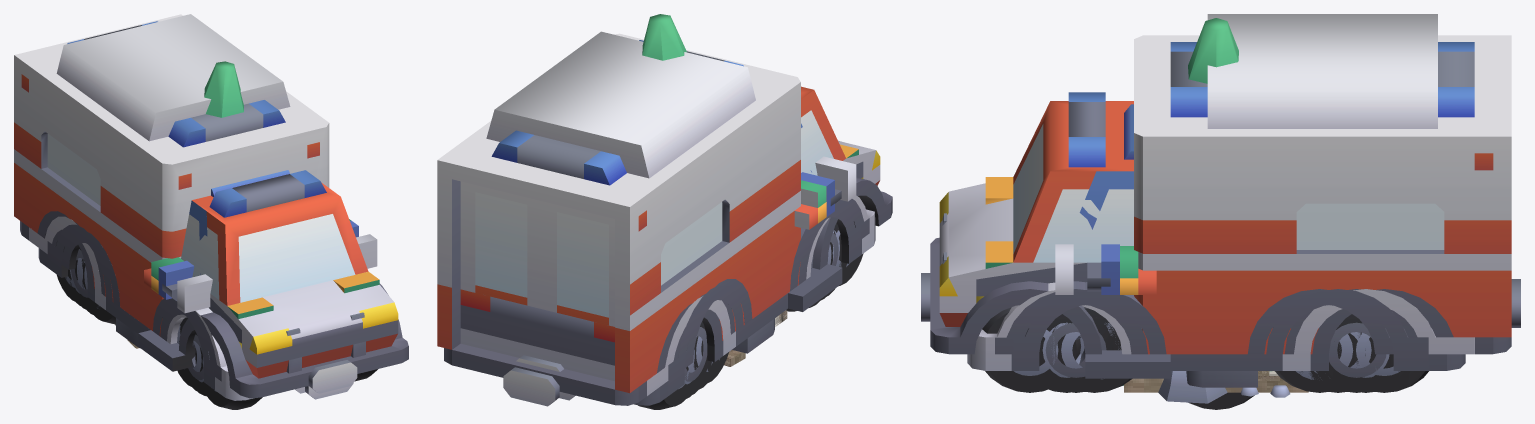
File: wasteland.glb
3 views of the same model, side by side, from view 1: azimuth 30°, elevation 25°; view 2: azimuth 150°, elevation 25°; view 3: azimuth 270°, elevation 25° (orthographic). The views are drawn at different scales.
Parts seen in each view (by area): view 1: body (×6), pine-crooked, wheel-front-right (×2), grill; view 2: body (×5), door-left, door-right, pine-crooked, wheel-back-right (×3), debris-bumper; view 3: body (×6), wheel-front-left (×5), wheel-back-left (×5), pine-crooked, rocks, debris-bumper, pallet, debris-tire.
Part boxes in pixels (box(x1,y1,x2,y2)): body (×6): box(14, 14, 408, 400); pine-crooked: box(204, 61, 243, 117); wheel-front-right (×2): box(184, 333, 262, 409); grill: box(286, 312, 365, 399); body (×5): box(437, 31, 892, 406); door-left: box(460, 181, 542, 359); door-right: box(542, 201, 614, 381); pine-crooked: box(642, 14, 686, 60); wheel-back-right (×3): box(637, 321, 728, 409); debris-bumper: box(732, 318, 774, 353); body (×6): box(921, 14, 1520, 378); wheel-front-left (×5): box(982, 307, 1132, 392); wheel-back-left (×5): box(1275, 314, 1428, 392); pine-crooked: box(1188, 18, 1238, 83); rocks: box(1158, 371, 1290, 403); debris-bumper: box(1186, 371, 1257, 387); pallet: box(1124, 371, 1308, 392); debris-tire: box(1188, 392, 1254, 409).
Size of the model in its own units: 1.5 by 2.31 by 3.25.
Materials: 16 (16 with a texture image).
